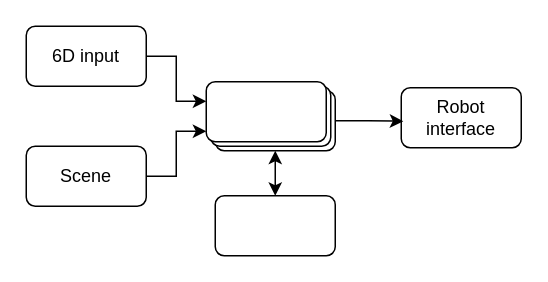
Image size: 548x282. Some labels were removed from this diagram. Each missing label, with the centre of its shape:
UI: the point at 274,225
Use cases: the point at 265,111
